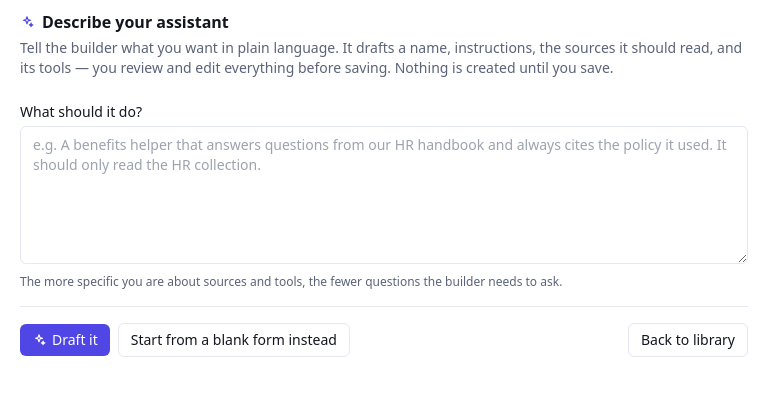
DescribeAssistant — draft → editor (E6-1, #213) › surfaces an actionable error on a transient draft failure (not a crash)
Type "An assistant." into the text box labelled "What should it do?".
click(384, 195); type("An assistant.")  # box [20, 126, 748, 264]
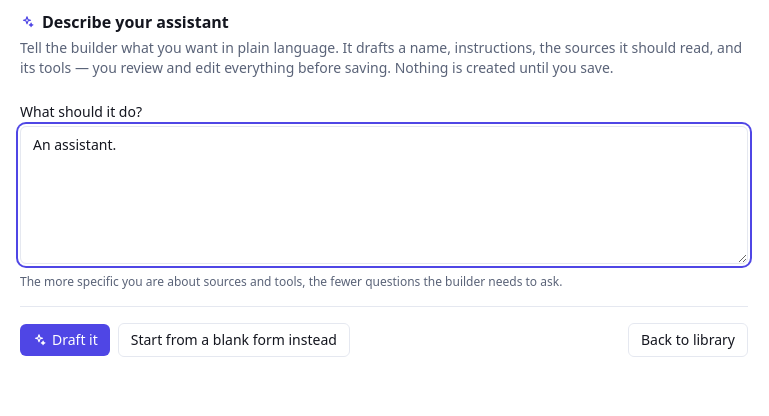
Click the button "Draft it".
click(65, 340)  # box [20, 324, 110, 356]
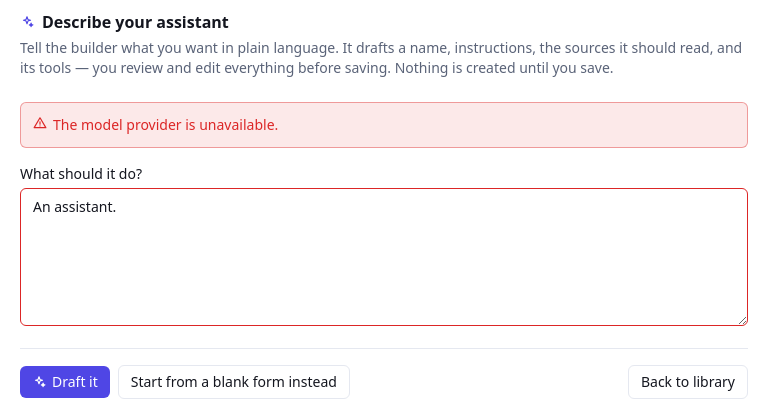
Check: the button "Draft it" is shown, box [20, 366, 110, 398]
Check: the message shows "model provider is unavailable", box [53, 115, 278, 134]
